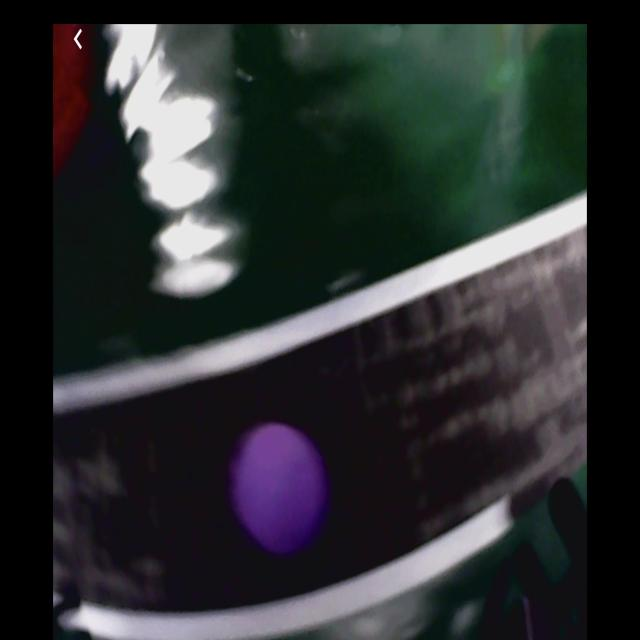ball: (231, 422, 327, 552)
